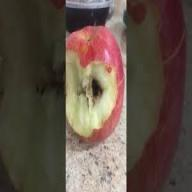apple: (64, 44, 116, 146)
